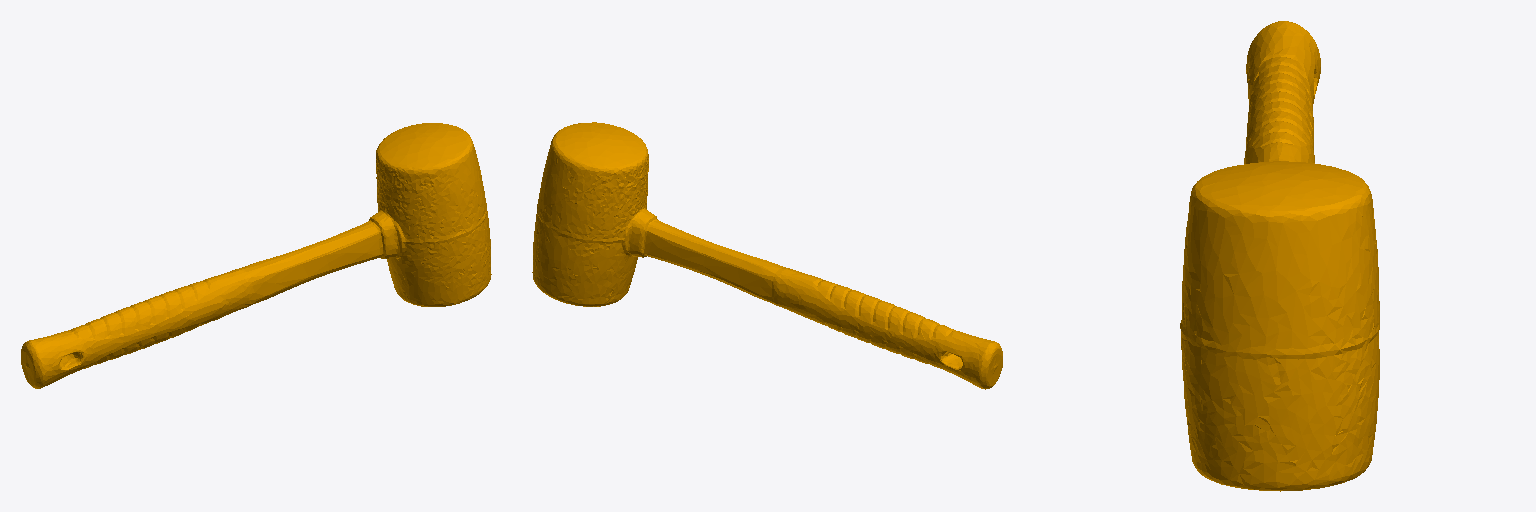
URDF robot description (Cole_Hardware_Hammer_Black):
<?xml version="1.0"?>
<robot name="Cole_Hardware_Hammer_Black">
  <link name="base_link">
    <contact>
      <lateral_friction value="1.0"/>
      <rolling_friction value="0.0"/>
      <contact_cfm value="0.0"/>
      <contact_erp value="1.0"/>
    </contact>
    <inertial>
      <mass value="0.752931167962"/>
      <inertia ixx="1" ixy="0" ixz="0" iyy="1" iyz="0" izz="1"/>
    </inertial>
    <visual>
      <geometry>
        <mesh filename="Cole_Hardware_Hammer_Black_visual.obj"/>
      </geometry>
    </visual>
    <collision>
      <geometry>
        <mesh filename="Cole_Hardware_Hammer_Black_collision.obj"/>
      </geometry>
    </collision>
  </link>
</robot>

--- Render facts (derived) ---
3 views of the same robot in one strip: view 1: azimuth 30°, elevation 25°; view 2: azimuth 150°, elevation 25°; view 3: azimuth 270°, elevation 25° (orthographic).
Robot: Cole_Hardware_Hammer_Black — 1 links, 0 joints (none); root link base_link; default pose: every joint at zero.
Visible links, largest first — view 1: base_link; view 2: base_link; view 3: base_link.
Link boxes in pixels (box(x1,y1,x2,y2)): base_link: box(21, 123, 491, 388); base_link: box(532, 122, 1002, 389); base_link: box(1180, 21, 1379, 491).
Bounding box of the posed robot: 0.1489 × 0.0307 × 0.0491 m (x, y, z).
1 mesh visuals loaded from 1 distinct referenced files (1 OBJ).